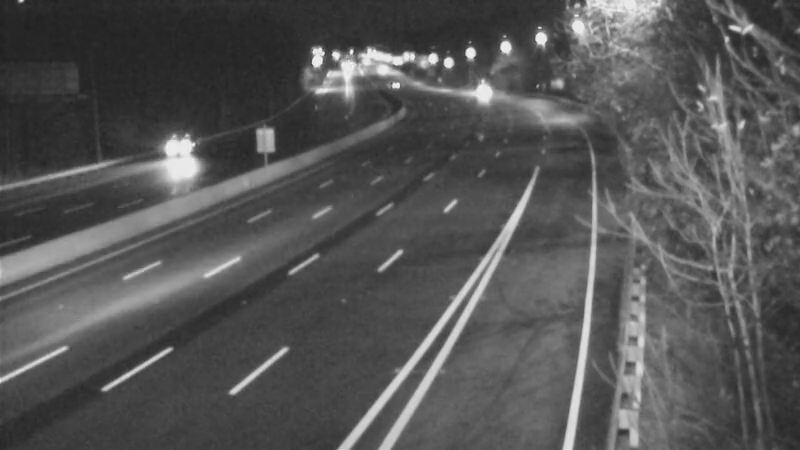vehicle: (126, 117, 206, 197), (366, 57, 416, 107), (458, 68, 508, 118)
